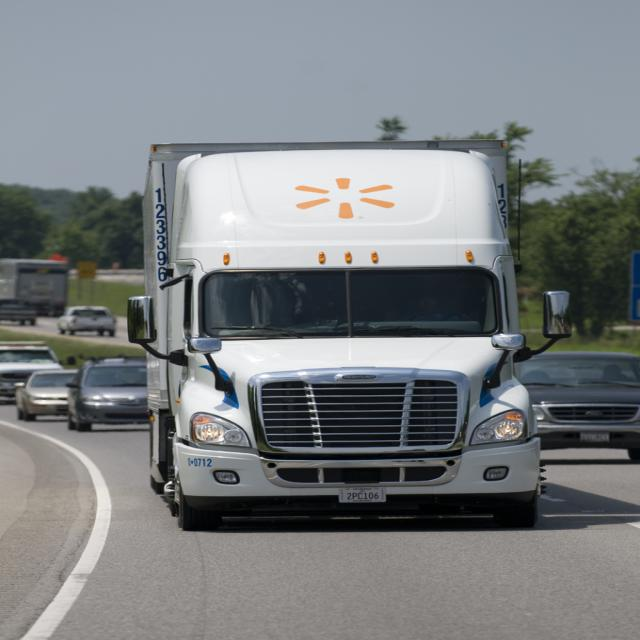Heavy Duty Truck: (126, 140, 573, 536)
Passenger Car: (64, 356, 151, 436), (14, 364, 80, 422)
Pickup Trucks: (518, 348, 638, 466), (52, 302, 118, 338)
